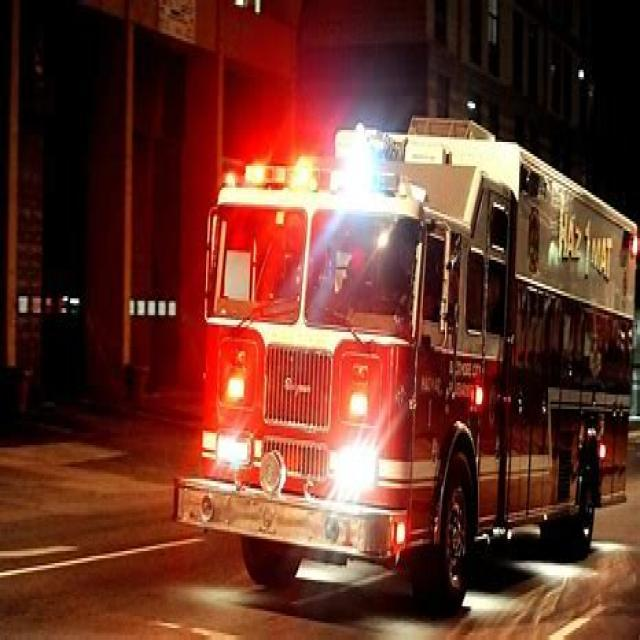Fire-engine: (172, 113, 637, 611)
